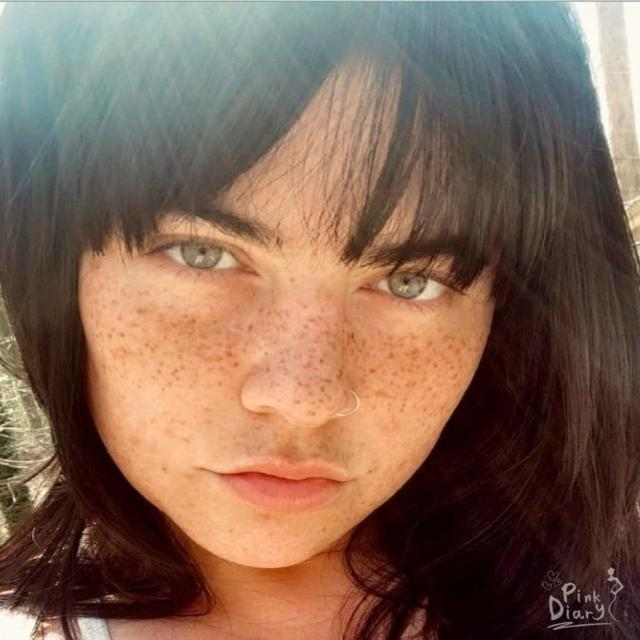freckle: (74, 288, 488, 415)
